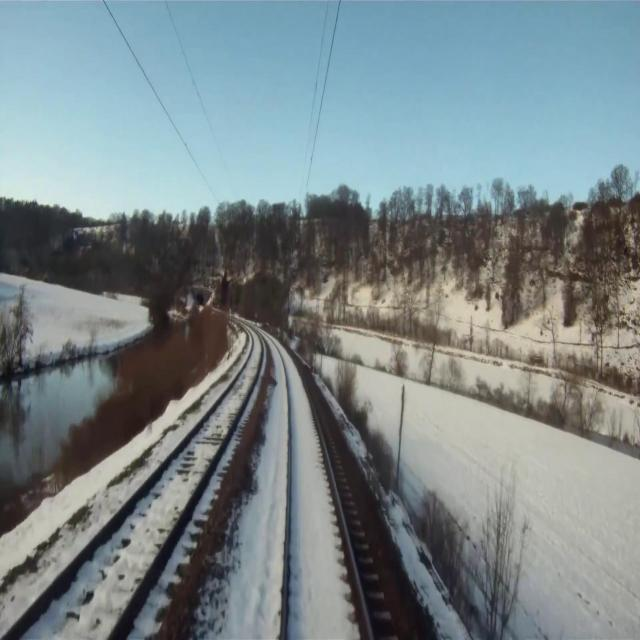rail-track: (7, 332, 261, 639), (276, 341, 369, 639)
